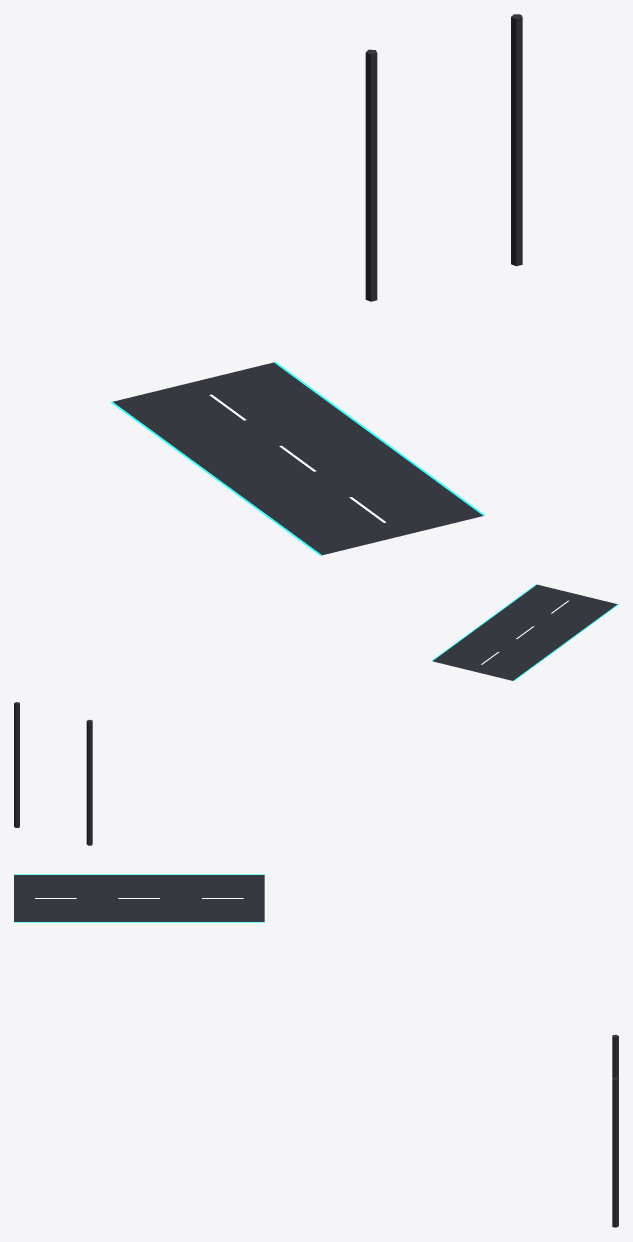
The model's file is road_straight.glb.
The picture shows the model from 3 angles, top to bottom: view 1: azimuth 30°, elevation 25°; view 2: azimuth 150°, elevation 25°; view 3: azimuth 270°, elevation 25°; orthographic projection. The views are drawn at different scales.
Parts seen in each view (by area): view 1: ENV_ROAD_STRAIGHT_01_LITE; view 2: ENV_ROAD_STRAIGHT_01_LITE; view 3: ENV_ROAD_STRAIGHT_01_LITE.
Boxes of the visible parts, x1,y1,x2,y2 form: ENV_ROAD_STRAIGHT_01_LITE: (110,14,522,555); ENV_ROAD_STRAIGHT_01_LITE: (14,584,618,845); ENV_ROAD_STRAIGHT_01_LITE: (14,874,618,1227).
Bounding box in the file's own units: 77.7 × 26.02 × 96.6.
